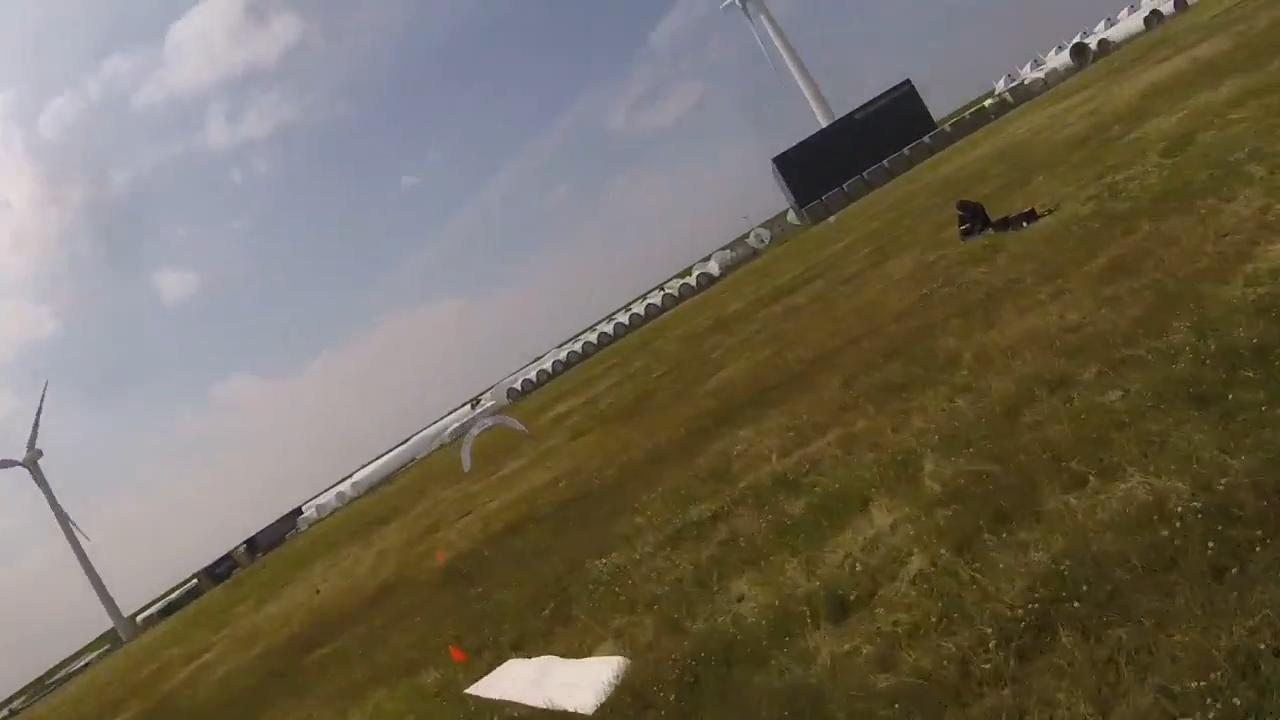gate: (458, 415, 527, 473)
